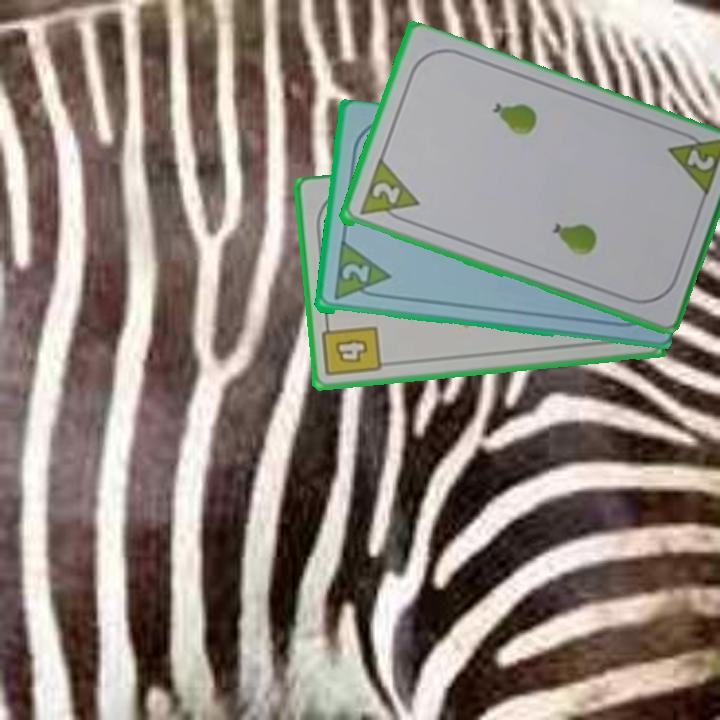2p: (330, 240, 392, 304), (367, 178, 403, 208), (682, 146, 718, 174)
4b: (319, 316, 384, 380)
